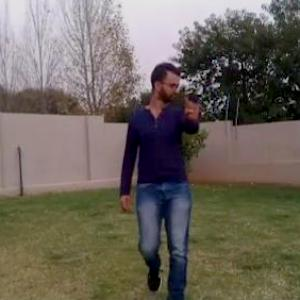takeoff-hand: (183, 85, 207, 127)
